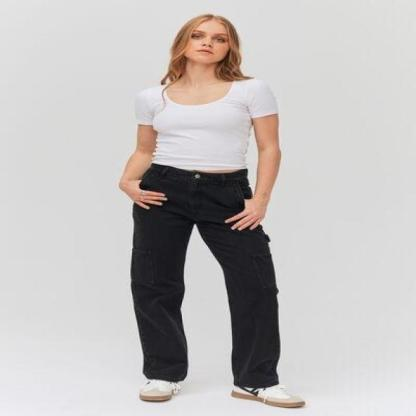person: (117, 14, 306, 410)
